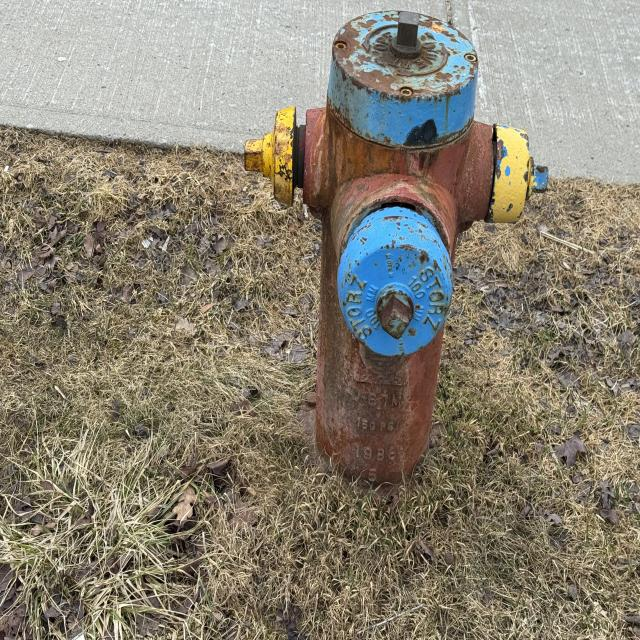Fire hydrant: (242, 8, 550, 516)
